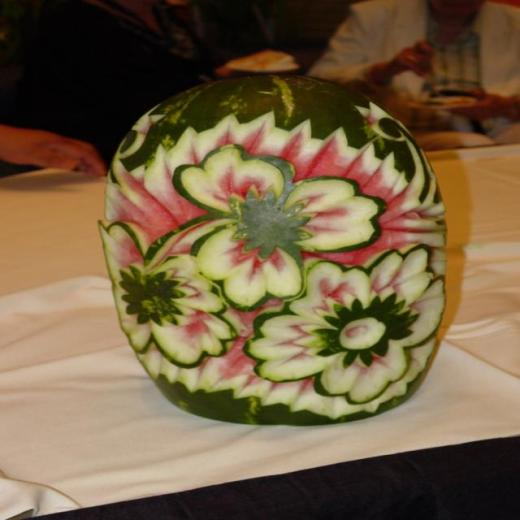Cherry: (98, 72, 450, 428)
